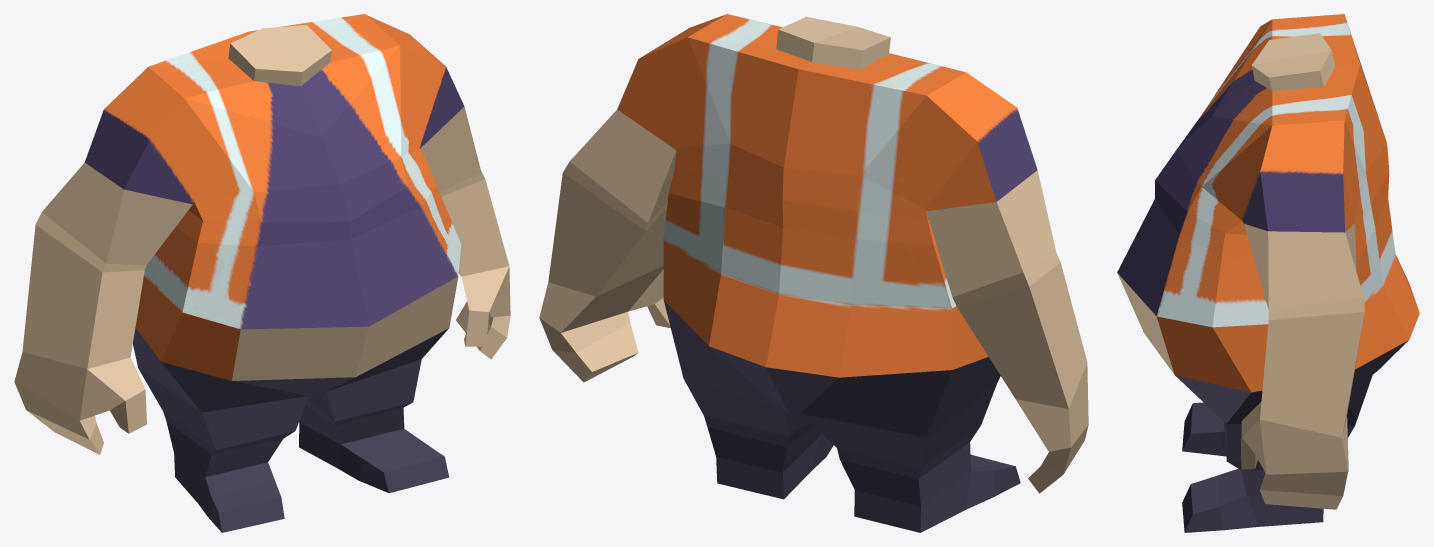
The model's file is Policeman Body.fbx.
3 renders of one model, left to right at view 1: azimuth 30°, elevation 25°; view 2: azimuth 150°, elevation 25°; view 3: azimuth 270°, elevation 25°, orthographic. The views are drawn at different scales.
Visible parts, largest first — view 1: Policeman Body; view 2: Policeman Body; view 3: Policeman Body.
Boxes of the visible parts, box(x1,y1,x2,y2) form: Policeman Body: box(14, 14, 510, 532); Policeman Body: box(539, 14, 1088, 532); Policeman Body: box(1117, 14, 1419, 532).
Bounding box in the file's own units: 821 × 692 × 445.
